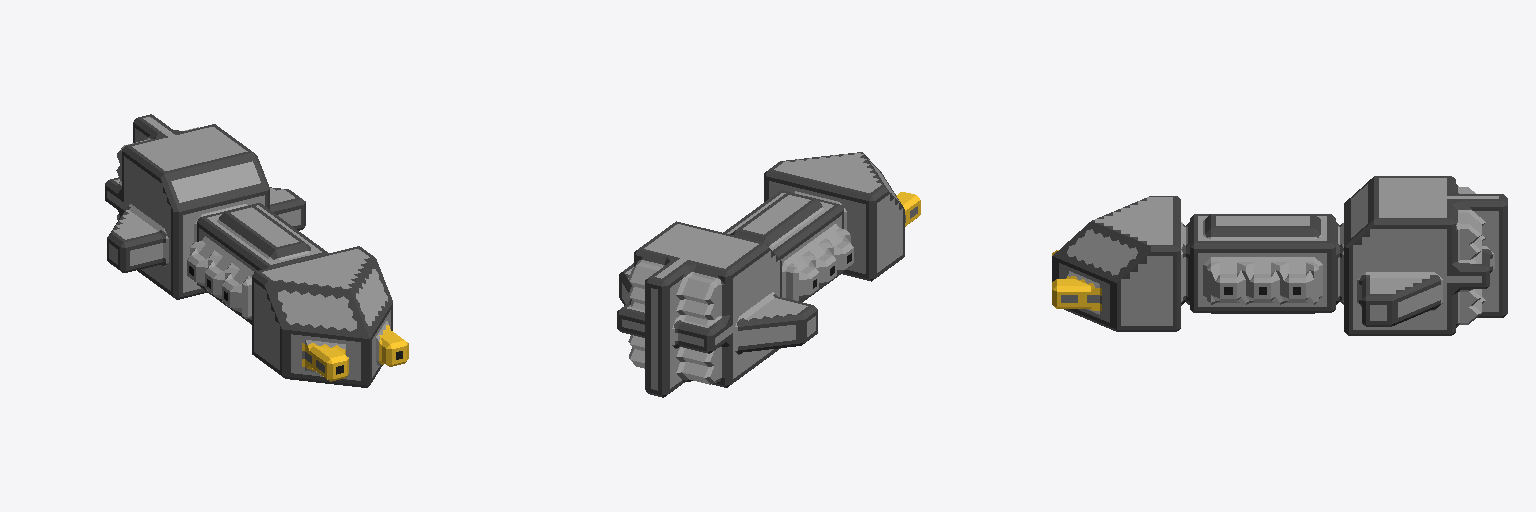
The picture shows the model from 3 angles: view 1: azimuth 30°, elevation 25°; view 2: azimuth 150°, elevation 25°; view 3: azimuth 270°, elevation 25°; orthographic projection.
Size of the model in its own units: 25 by 15 by 53.
Materials: 1 (1 with a texture image).